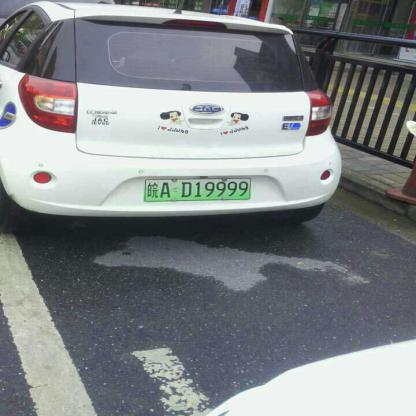lp: (146, 179, 250, 199)
